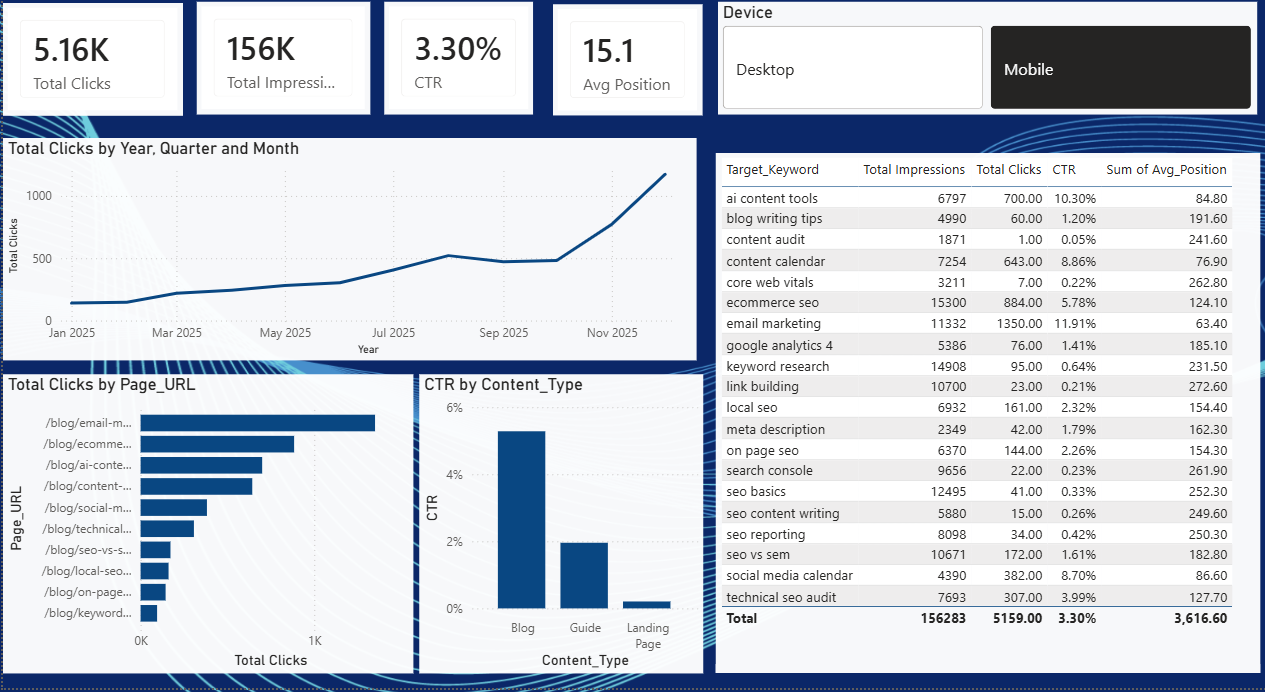

The dashboard page shown, as its layout file describes it:
{"tool":"powerbi","page":{"name":"Page 1","canvas":[1280,720],"ordinal":0},"visuals":[{"type":"cardVisual","fields":{"Data":["seo_performance.Total Clicks"]},"box":[0,35.5,179.8,112.5],"z":0},{"type":"cardVisual","fields":{"Data":["seo_performance.Total Impressions"]},"box":[193.2,34.2,173.6,112.5],"z":1000},{"type":"cardVisual","fields":{"Data":["seo_performance.CTR"]},"box":[381.5,34.2,149.2,112.5],"z":2000},{"type":"cardVisual","fields":{"Data":["seo_performance.Avg Position"]},"box":[550.3,35.7,149.6,111.1],"z":3000},{"type":"lineChart","fields":{"Category":["seo_performance.Month.Variation.Date Hierarchy.Year","seo_performance.Month.Variation.Date Hierarchy.Quarter","seo_performance.Month.Variation.Date Hierarchy.Month","seo_performance.Month.Variation.Date Hierarchy.Day"],"Y":["seo_performance.Total Clicks"]},"box":[0,170,693.3,222.6],"z":4000},{"type":"advancedSlicerVisual","fields":{"Values":["seo_performance.Device"]},"box":[714.9,34.3,539.3,112.5],"z":5000},{"type":"clusteredBarChart","fields":{"Category":["seo_performance.Page_URL"],"Y":["seo_performance.Total Clicks"]},"box":[0,406.2,410.3,299.1],"z":6000},{"type":"clusteredColumnChart","fields":{"Category":["seo_performance.Content_Type"],"Y":["seo_performance.CTR"]},"box":[415.8,406.2,284,299.1],"z":6001},{"type":"tableEx","fields":{"Values":["seo_performance.Target_Keyword","seo_performance.Total Impressions","seo_performance.Total Clicks","seo_performance.CTR","Sum(seo_performance.Avg_Position)"]},"box":[712.2,185.2,544.8,520.1],"z":6002}]}

Visuals, with their boxes in screenshot pixels (x1, y1, x2, y2), scaled from the page's 1280x720 canvas onto the 1265x692 screenshot:
cardVisual - seo_performance.Total Clicks: select_region(0, 34, 178, 142)
cardVisual - seo_performance.Total Impressions: select_region(191, 33, 363, 141)
cardVisual - seo_performance.CTR: select_region(377, 33, 524, 141)
cardVisual - seo_performance.Avg Position: select_region(544, 34, 692, 141)
lineChart - seo_performance.Month.Variation.Date Hierarchy.Year x seo_performance.Month.Variation.Date Hierarchy.Quarter: select_region(0, 163, 685, 377)
advancedSlicerVisual - seo_performance.Device: select_region(707, 33, 1240, 141)
clusteredBarChart - seo_performance.Page_URL x seo_performance.Total Clicks: select_region(0, 390, 405, 678)
clusteredColumnChart - seo_performance.Content_Type x seo_performance.CTR: select_region(411, 390, 692, 678)
tableEx - seo_performance.Target_Keyword x seo_performance.Total Impressions: select_region(704, 178, 1242, 678)
